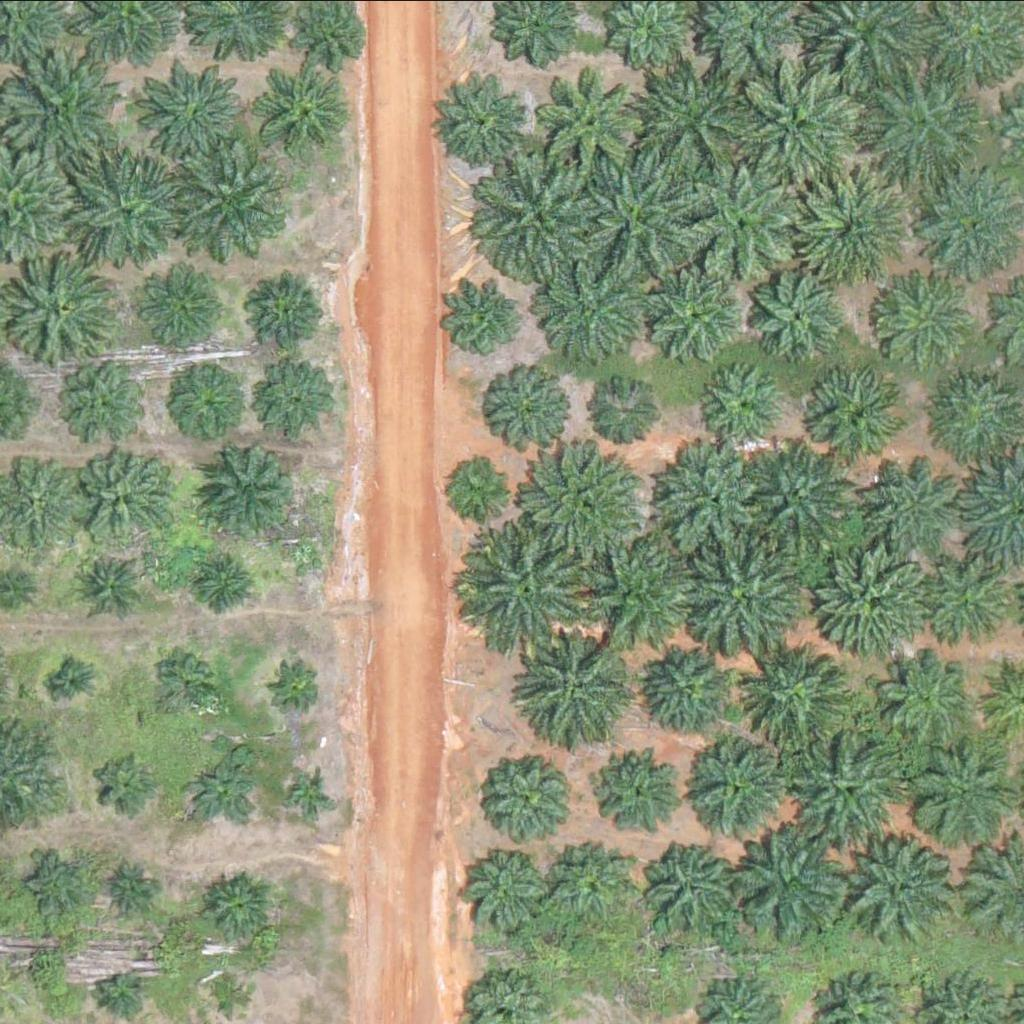Kelapa_Sawit: (736, 54, 862, 179), (476, 155, 602, 280), (471, 525, 597, 650), (570, 151, 695, 276), (798, 173, 912, 286), (526, 437, 640, 550), (739, 641, 853, 754), (869, 63, 982, 176), (683, 162, 796, 275), (531, 248, 644, 361), (589, 534, 702, 647), (690, 543, 803, 656), (810, 546, 923, 659), (870, 648, 983, 761), (168, 146, 281, 259), (904, 737, 1018, 849), (736, 831, 850, 943), (636, 62, 749, 174), (741, 438, 854, 550), (654, 443, 767, 555), (795, 732, 908, 844), (144, 55, 257, 167), (68, 156, 181, 268), (545, 67, 646, 167), (434, 69, 535, 169), (848, 452, 949, 552), (632, 632, 733, 732), (476, 748, 577, 848), (199, 443, 300, 543), (810, 363, 910, 463), (530, 637, 630, 737), (686, 735, 786, 835), (855, 844, 955, 944), (639, 839, 739, 939), (488, 365, 577, 453), (646, 274, 734, 362), (700, 364, 788, 452), (924, 565, 1012, 653), (592, 753, 680, 841), (256, 71, 344, 159), (84, 452, 172, 540), (442, 274, 530, 361), (876, 272, 964, 359), (750, 273, 838, 360), (931, 371, 1019, 458), (547, 834, 635, 921), (464, 846, 552, 933), (137, 267, 225, 354), (593, 376, 669, 451), (253, 271, 329, 346), (75, 363, 151, 438), (257, 360, 333, 435), (201, 868, 276, 943), (183, 752, 258, 827), (180, 375, 243, 438), (198, 551, 261, 614), (445, 454, 508, 517), (153, 656, 216, 719), (297, 1, 360, 64), (26, 853, 89, 915), (95, 749, 158, 811), (275, 663, 326, 713), (104, 859, 155, 909), (284, 770, 335, 820), (90, 972, 141, 1022), (83, 561, 133, 611), (206, 968, 256, 1018), (56, 661, 94, 698)
